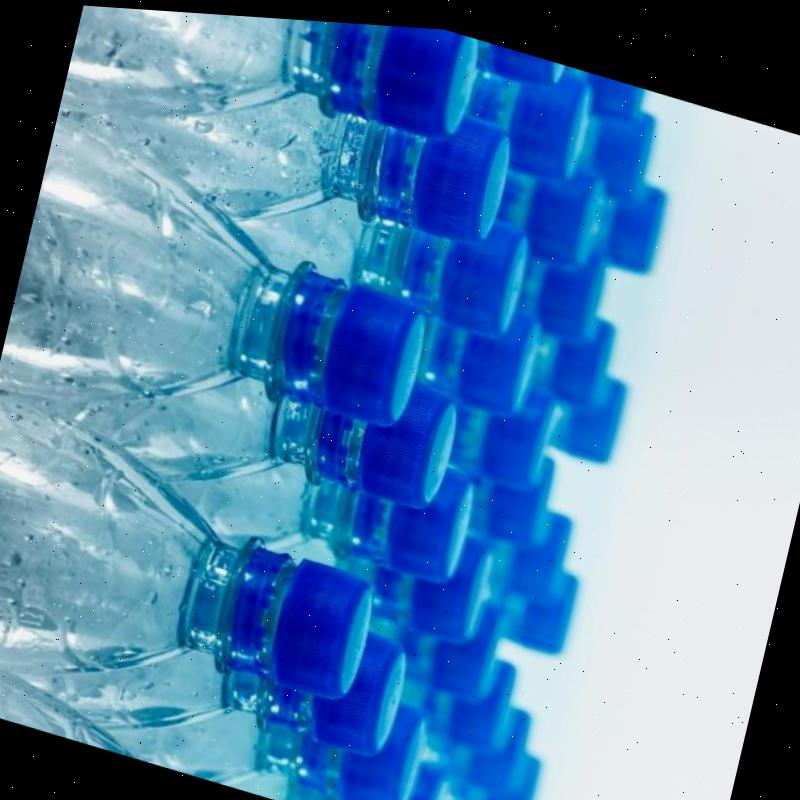botella: (0, 110, 449, 502), (0, 387, 396, 770), (51, 4, 514, 290), (12, 532, 412, 800), (68, 293, 461, 553), (58, 3, 483, 217), (147, 383, 479, 600), (241, 147, 532, 339), (370, 610, 528, 761), (270, 663, 430, 800), (423, 351, 564, 494), (472, 136, 614, 275), (352, 504, 493, 643), (399, 275, 540, 413), (401, 668, 546, 800), (456, 39, 593, 178), (380, 572, 509, 701), (499, 287, 630, 410), (501, 219, 622, 347), (0, 655, 145, 757), (446, 428, 560, 551), (554, 85, 668, 205), (526, 349, 636, 472), (573, 160, 674, 281), (473, 487, 570, 605), (488, 550, 580, 663), (426, 722, 539, 800), (321, 735, 446, 800), (470, 32, 565, 87), (577, 63, 651, 122)
